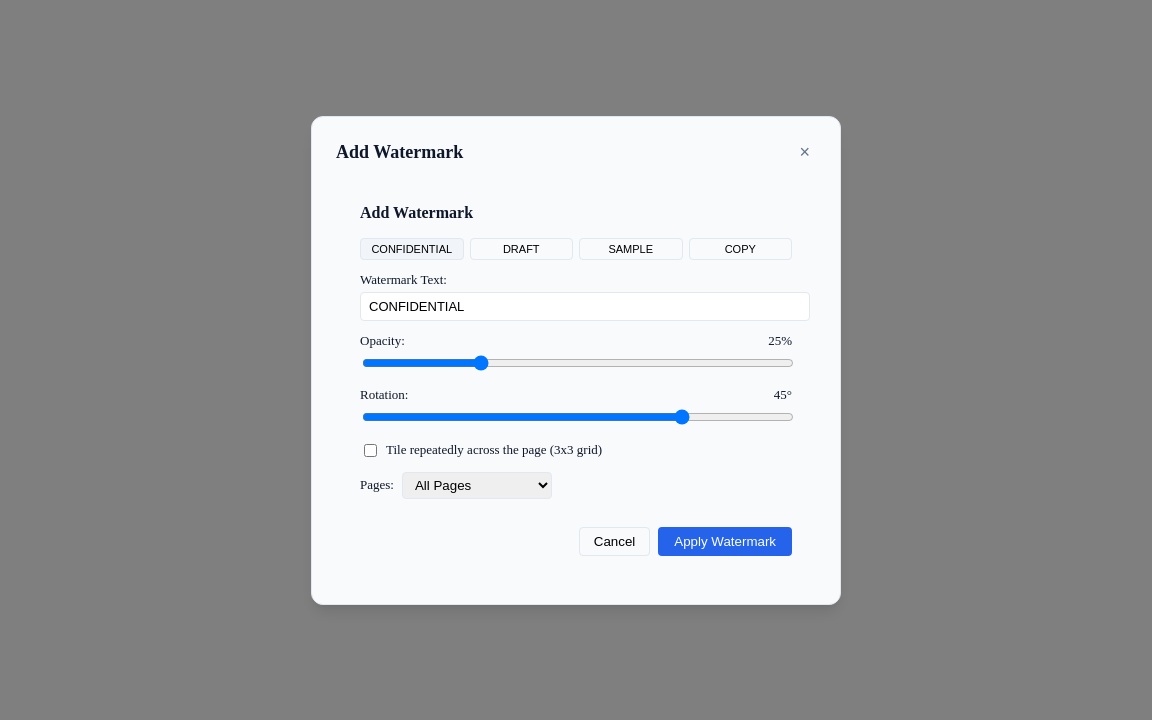
Phase 11 UI Integration: Word-like Content Tools › Task 11.10: WatermarkDialog › configures text watermark with presets and opacity
Later steps or results of the test are not shown.
What coordinates should you click on to do the following:
click the button with test id "wm-preset-draft"
I would click on:
 (521, 248)
Its box is [470,238,573,260].
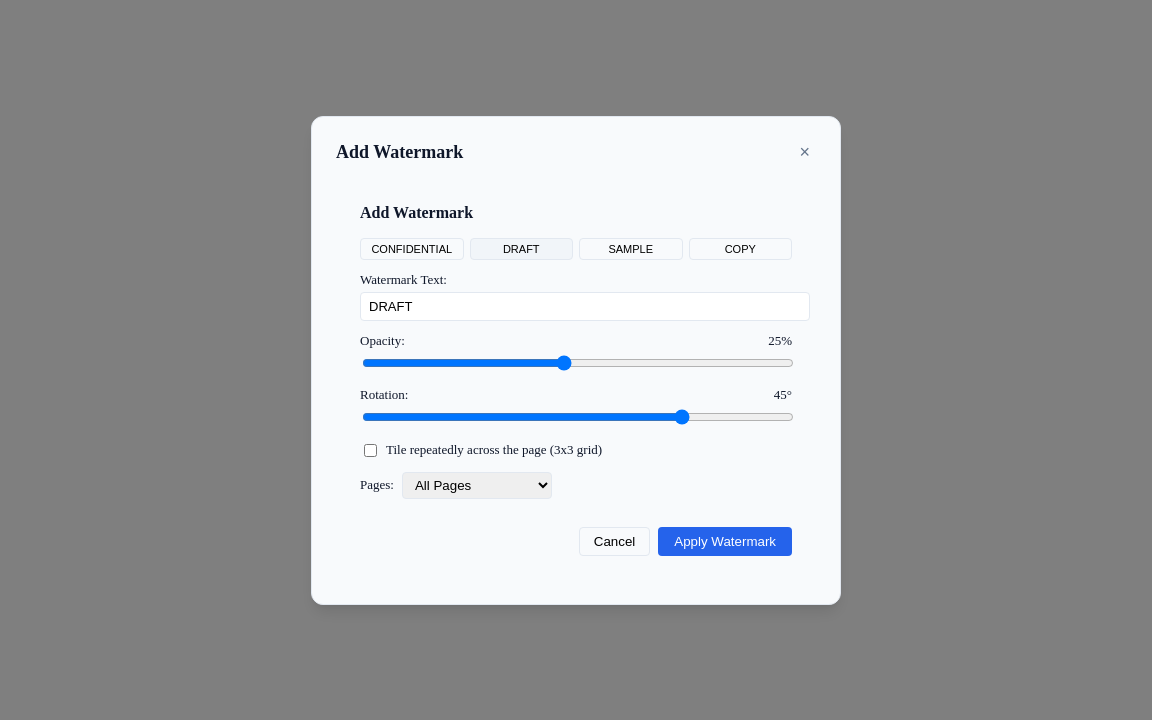
Expected: the field with test id "input-watermark-text" holds "DRAFT", [360,292,810,320]
